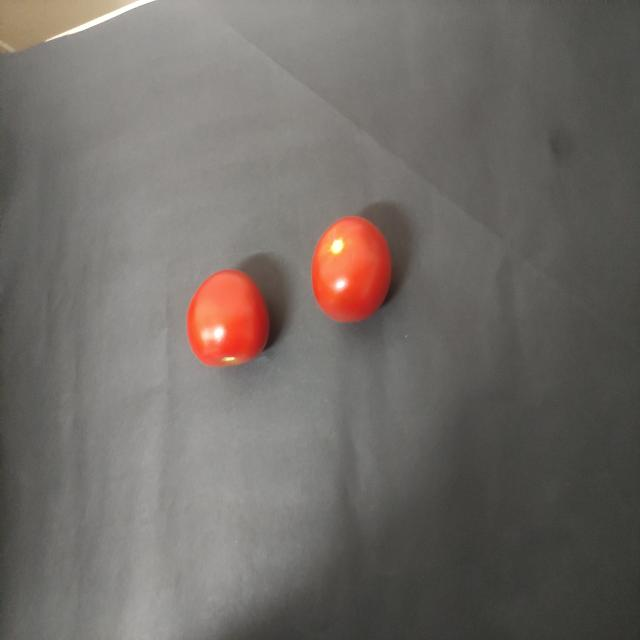kirmizi: (295, 195, 405, 332), (172, 258, 276, 380)
